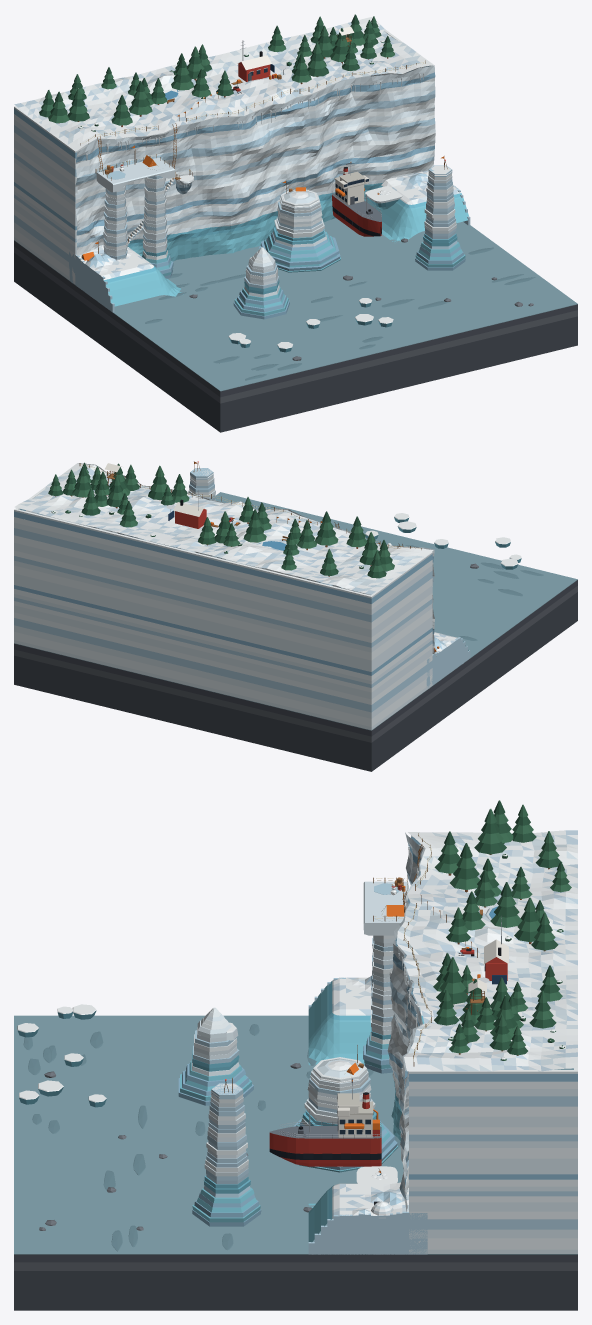
File: Loc_Arctic.fbx
3 views of the same model, one above another, from view 1: azimuth 30°, elevation 25°; view 2: azimuth 150°, elevation 25°; view 3: azimuth 270°, elevation 25° (orthographic). The views are drawn at different scales.
Parts seen in each view (by area): view 1: Seabed, IceA, IceWhite, BlockRock, Snow, IceB, IceUnder, IceC, PineGreen, PineGreenDark, SnowShade, Earth (+7 smaller); view 2: IceA, IceWhite, BlockRock, IceB, Snow, Seabed, PineGreenDark, PineGreen, IceC, Earth, Soil, SnowBlue (+3 smaller); view 3: Seabed, Snow, BlockRock, IceA, IceWhite, IceB, PineGreenDark, PineGreen, SnowShade, IceUnder, SnowBlue, IceC (+8 smaller).
Boxes of the visible parts, x1,y1,x2,y2 form: Seabed: [14, 218, 577, 391]; IceA: [14, 65, 456, 297]; IceWhite: [14, 67, 456, 281]; BlockRock: [14, 253, 577, 432]; Snow: [14, 17, 457, 348]; IceB: [14, 70, 470, 312]; IceUnder: [106, 188, 468, 315]; IceC: [14, 66, 465, 319]; PineGreen: [41, 16, 394, 125]; PineGreenDark: [39, 14, 393, 131]; SnowShade: [25, 22, 461, 278]; Earth: [14, 246, 577, 403]; IceA: [14, 463, 448, 730]; IceWhite: [14, 475, 434, 726]; BlockRock: [14, 592, 577, 771]; IceB: [14, 468, 470, 712]; Snow: [14, 463, 521, 653]; Seabed: [14, 492, 577, 730]; PineGreenDark: [48, 462, 392, 578]; PineGreen: [50, 464, 394, 571]; IceC: [14, 509, 434, 675]; Earth: [14, 586, 577, 742]; Soil: [14, 580, 577, 736]; SnowBlue: [23, 467, 455, 643]; Seabed: [14, 1015, 577, 1254]; Snow: [17, 830, 577, 1215]; BlockRock: [14, 1271, 577, 1310]; IceA: [191, 832, 577, 1253]; IceWhite: [194, 844, 577, 1249]; IceB: [193, 871, 577, 1254]; PineGreenDark: [434, 800, 569, 1060]; PineGreen: [433, 804, 571, 1053]; SnowShade: [317, 832, 577, 1218]; IceUnder: [180, 985, 424, 1242]; SnowBlue: [332, 830, 577, 1216]; IceC: [178, 837, 577, 1226].
Bounding box in the file's own units: 90.22 × 51.19 × 90.01.
